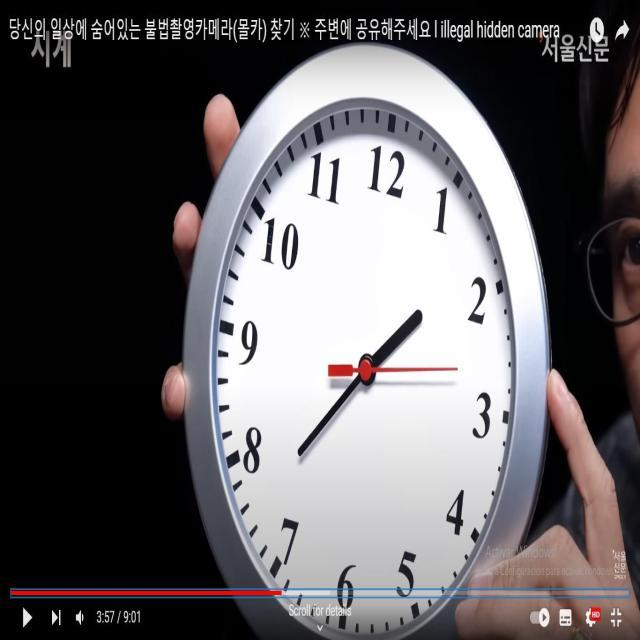hidden camera: (266, 224, 275, 249)
